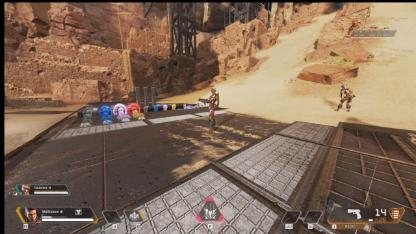Target: (337, 84, 355, 112), (207, 86, 217, 130)
